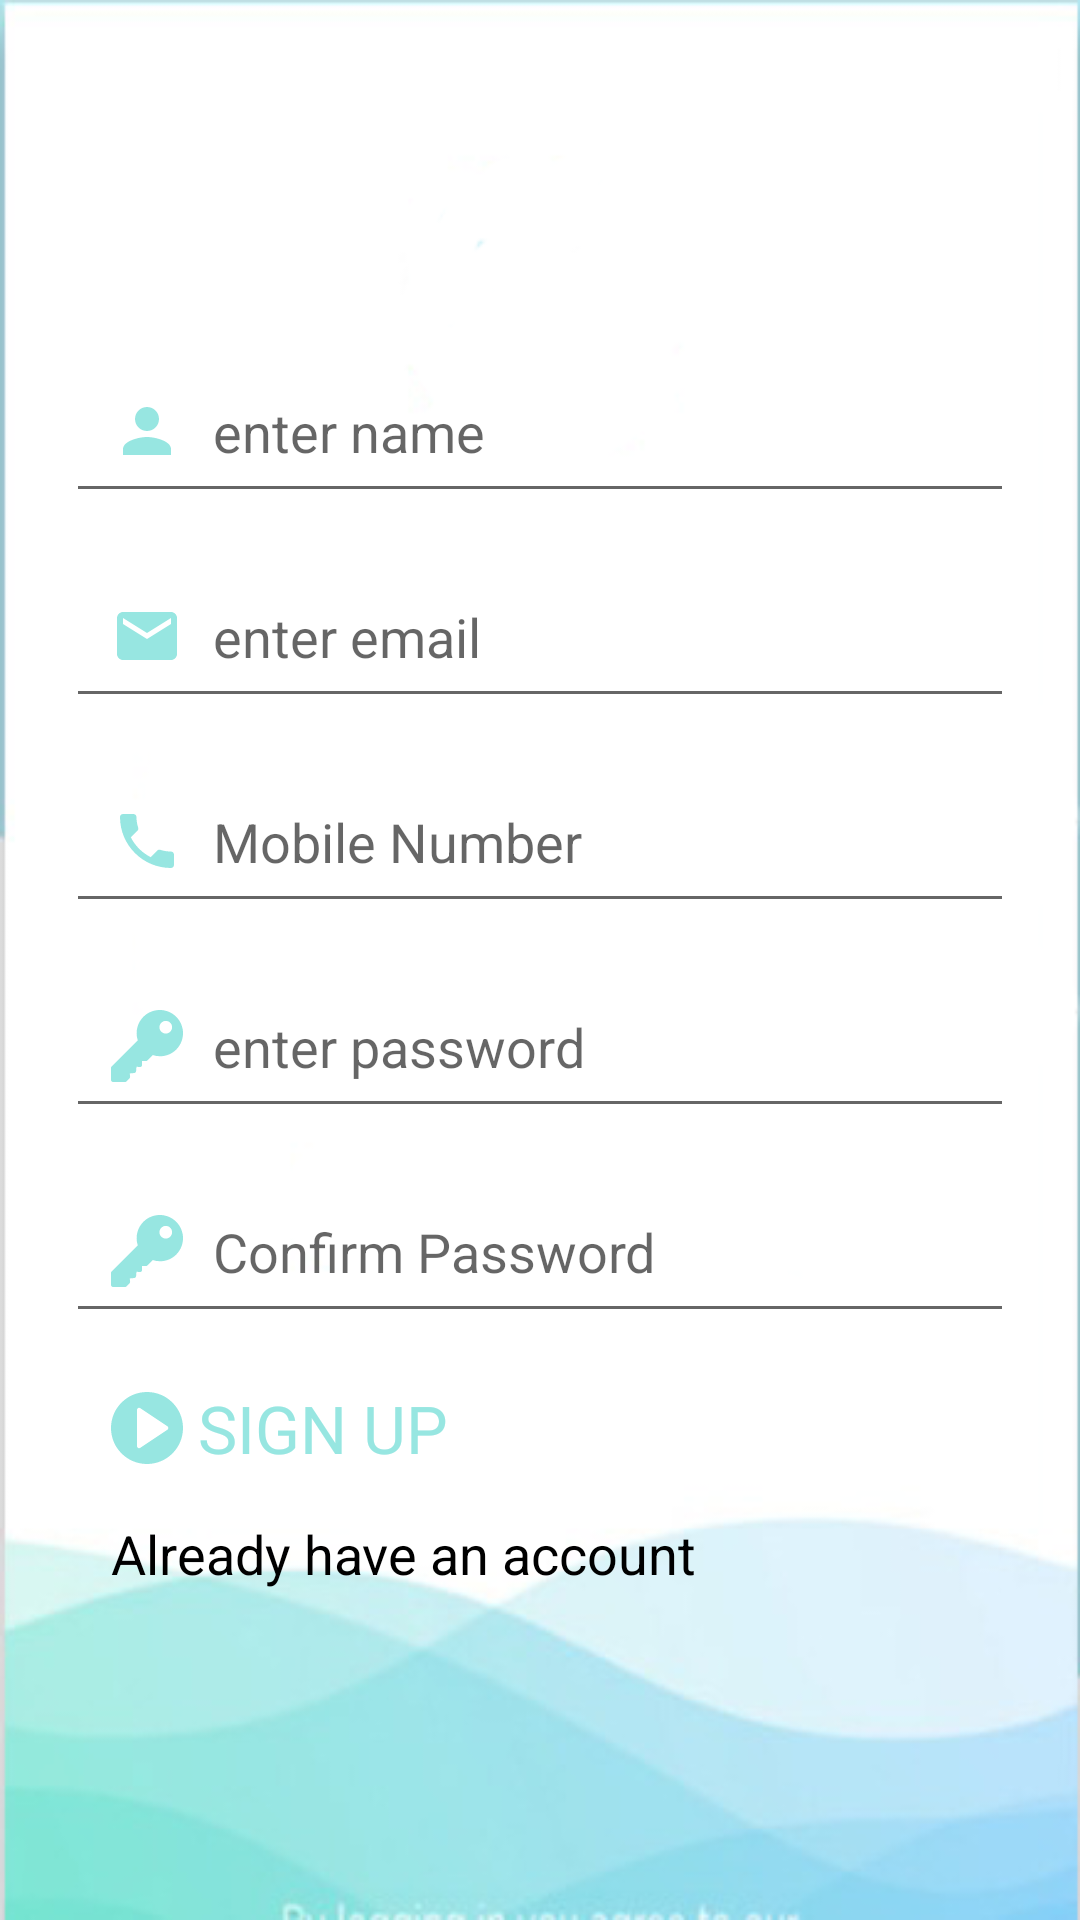

Screen size 1080 × 1920. Icon name, then its box in pixels as (x1, y1, x2, y2):
play: (111, 1392, 183, 1464)
